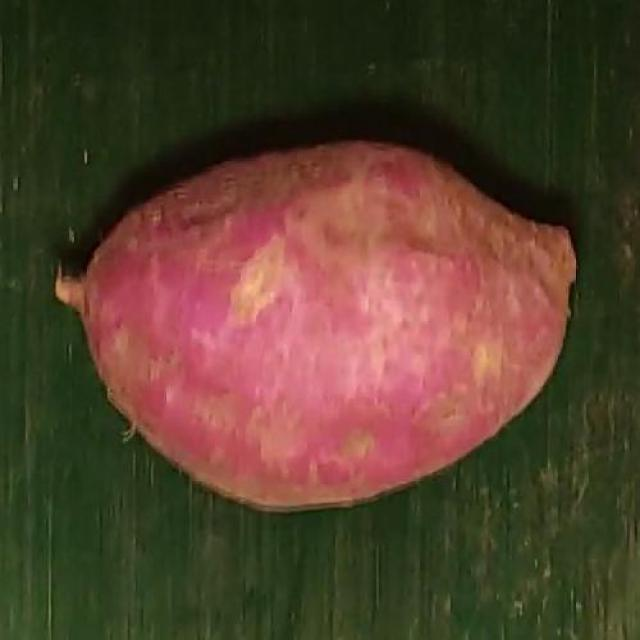Sweet Potato: (55, 141, 579, 511)
